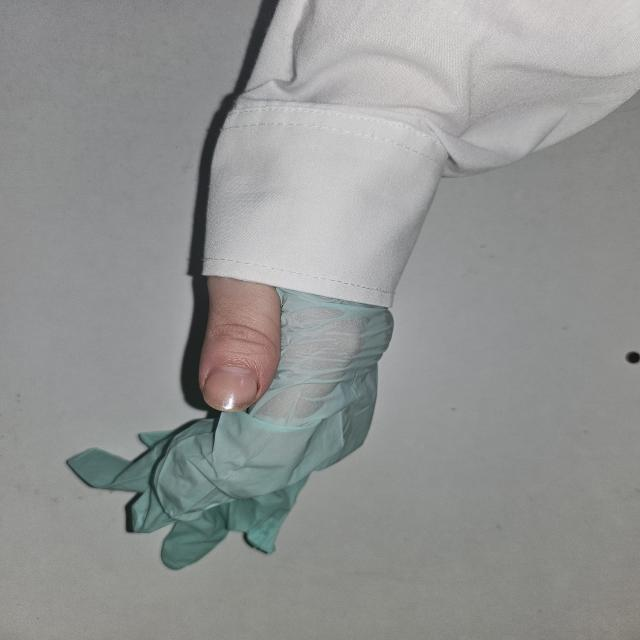glove_partial: (65, 275, 399, 582)
